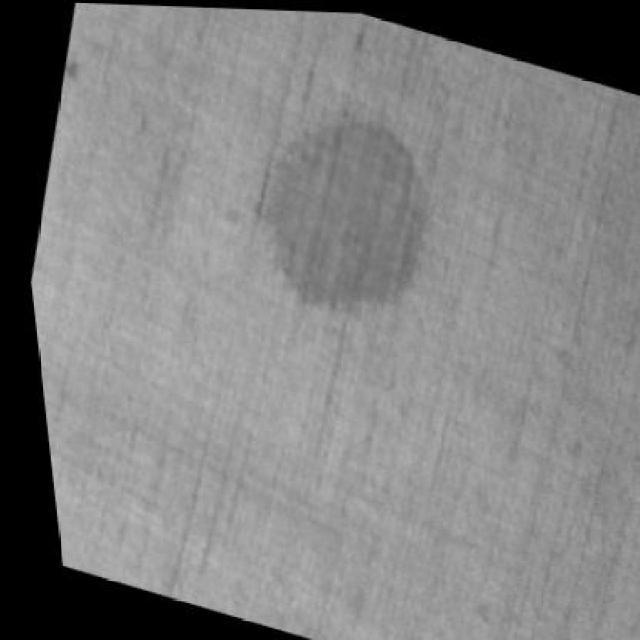Hole: (208, 70, 480, 392)
